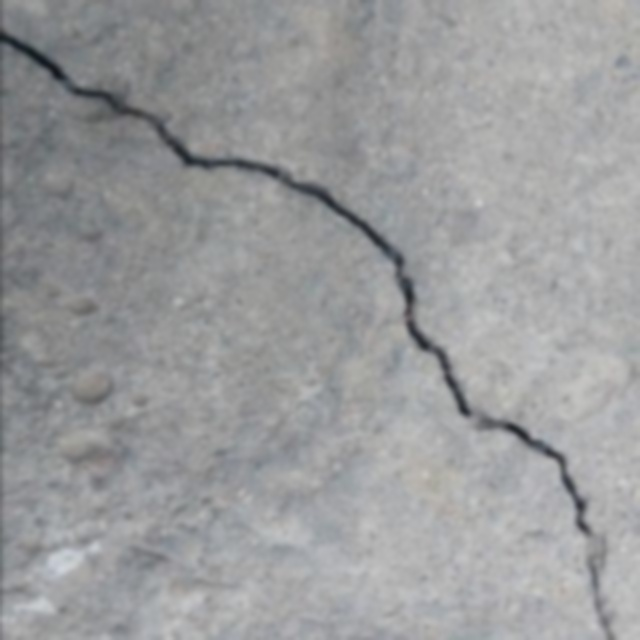SurfaceCrack: (8, 22, 632, 638)
